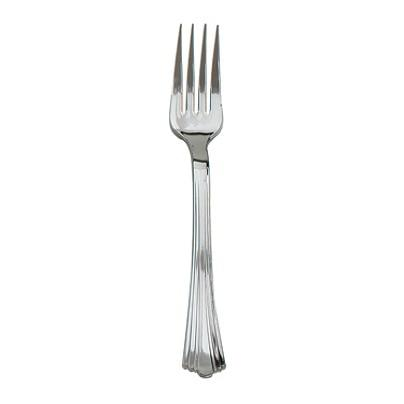Fork: (168, 23, 226, 379)
